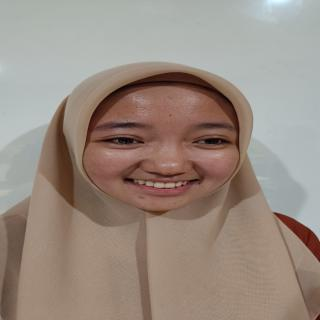Senang: (74, 79, 247, 216)
